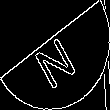N_NW: (29, 23, 81, 87)
